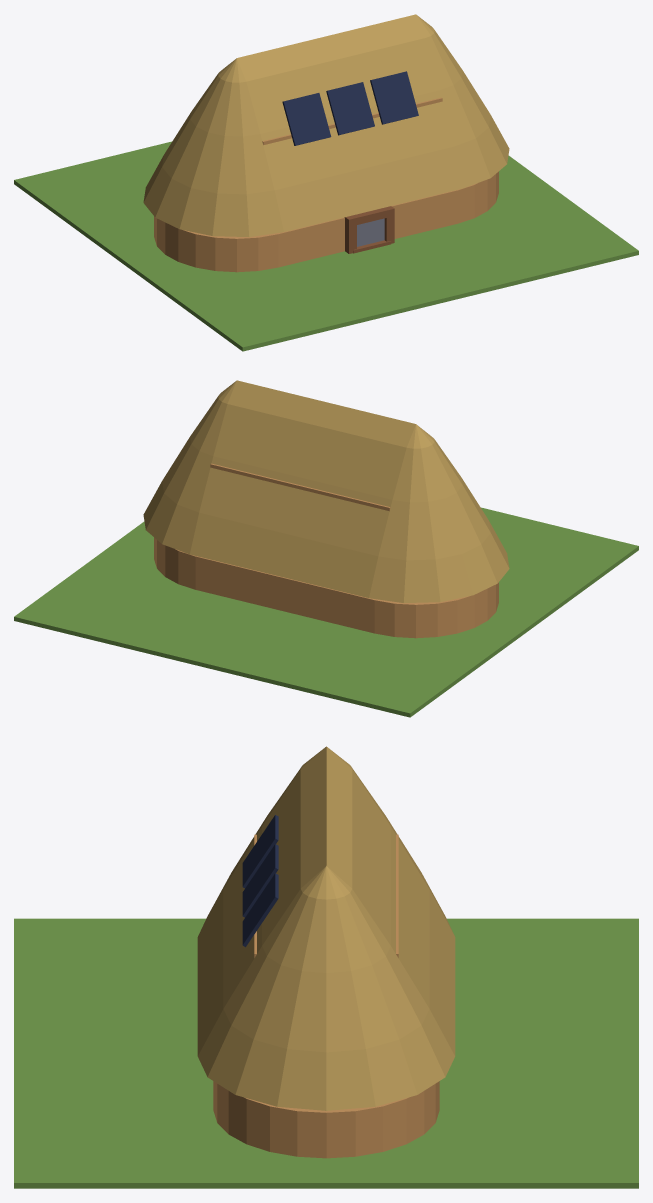
File: house-2x2-1f-maloca-a-solar.glb
The picture shows the model from 3 angles, top to bottom: view 1: azimuth 30°, elevation 25°; view 2: azimuth 150°, elevation 25°; view 3: azimuth 270°, elevation 25°; orthographic projection. The views are drawn at different scales.
Parts seen in each view (by area): view 1: house-2x2-1f-maloca-a-solar; view 2: house-2x2-1f-maloca-a-solar; view 3: house-2x2-1f-maloca-a-solar.
Boxes of the visible parts, left/top/right/bottom form: house-2x2-1f-maloca-a-solar: left=14, top=14, right=638, bottom=351; house-2x2-1f-maloca-a-solar: left=14, top=380, right=638, bottom=717; house-2x2-1f-maloca-a-solar: left=14, top=746, right=638, bottom=1188.
Bounding box in the file's own units: 1.99 × 0.88 × 1.99.
1 material, 1 textured.
